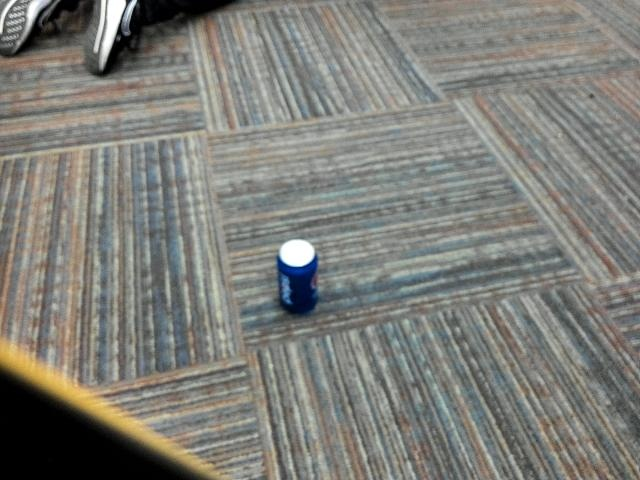can: (274, 235, 326, 318)
